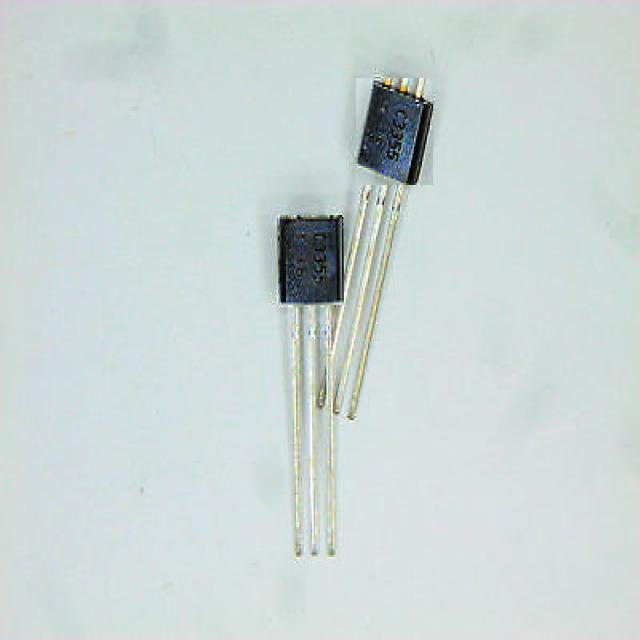Transistor: (339, 67, 442, 416), (260, 203, 354, 570)
